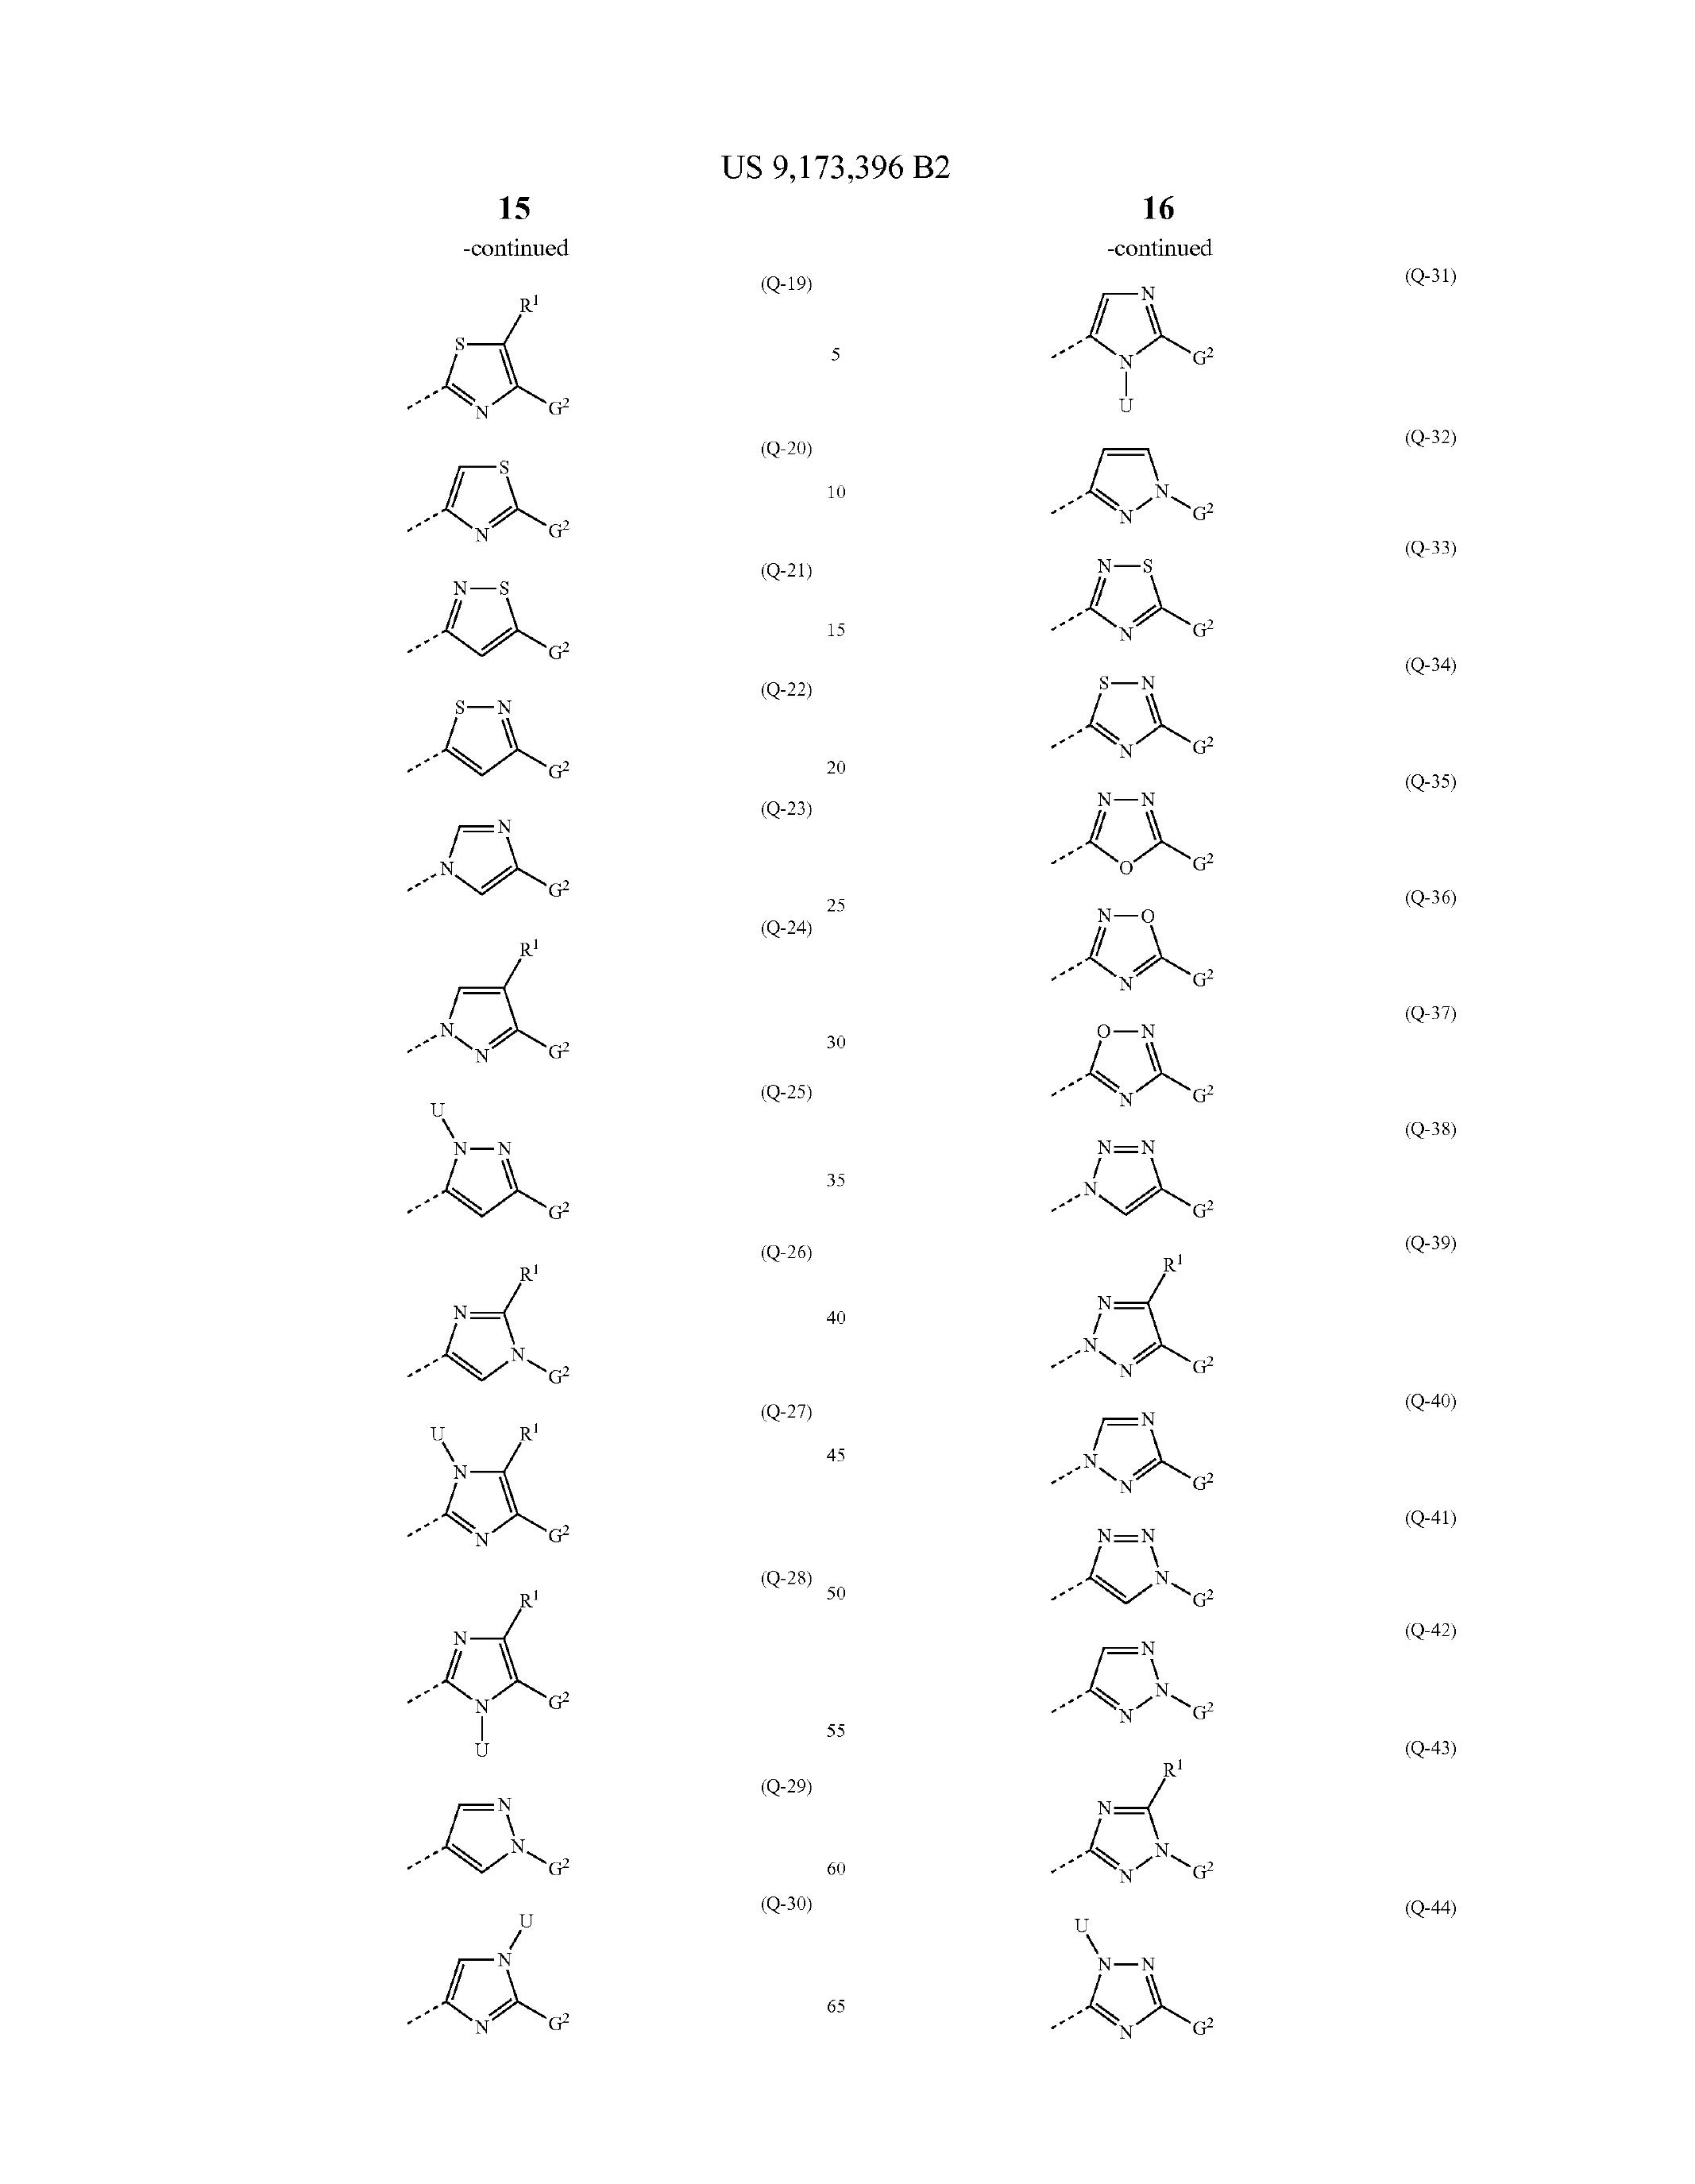intermediates: (323, 298, 667, 814)
